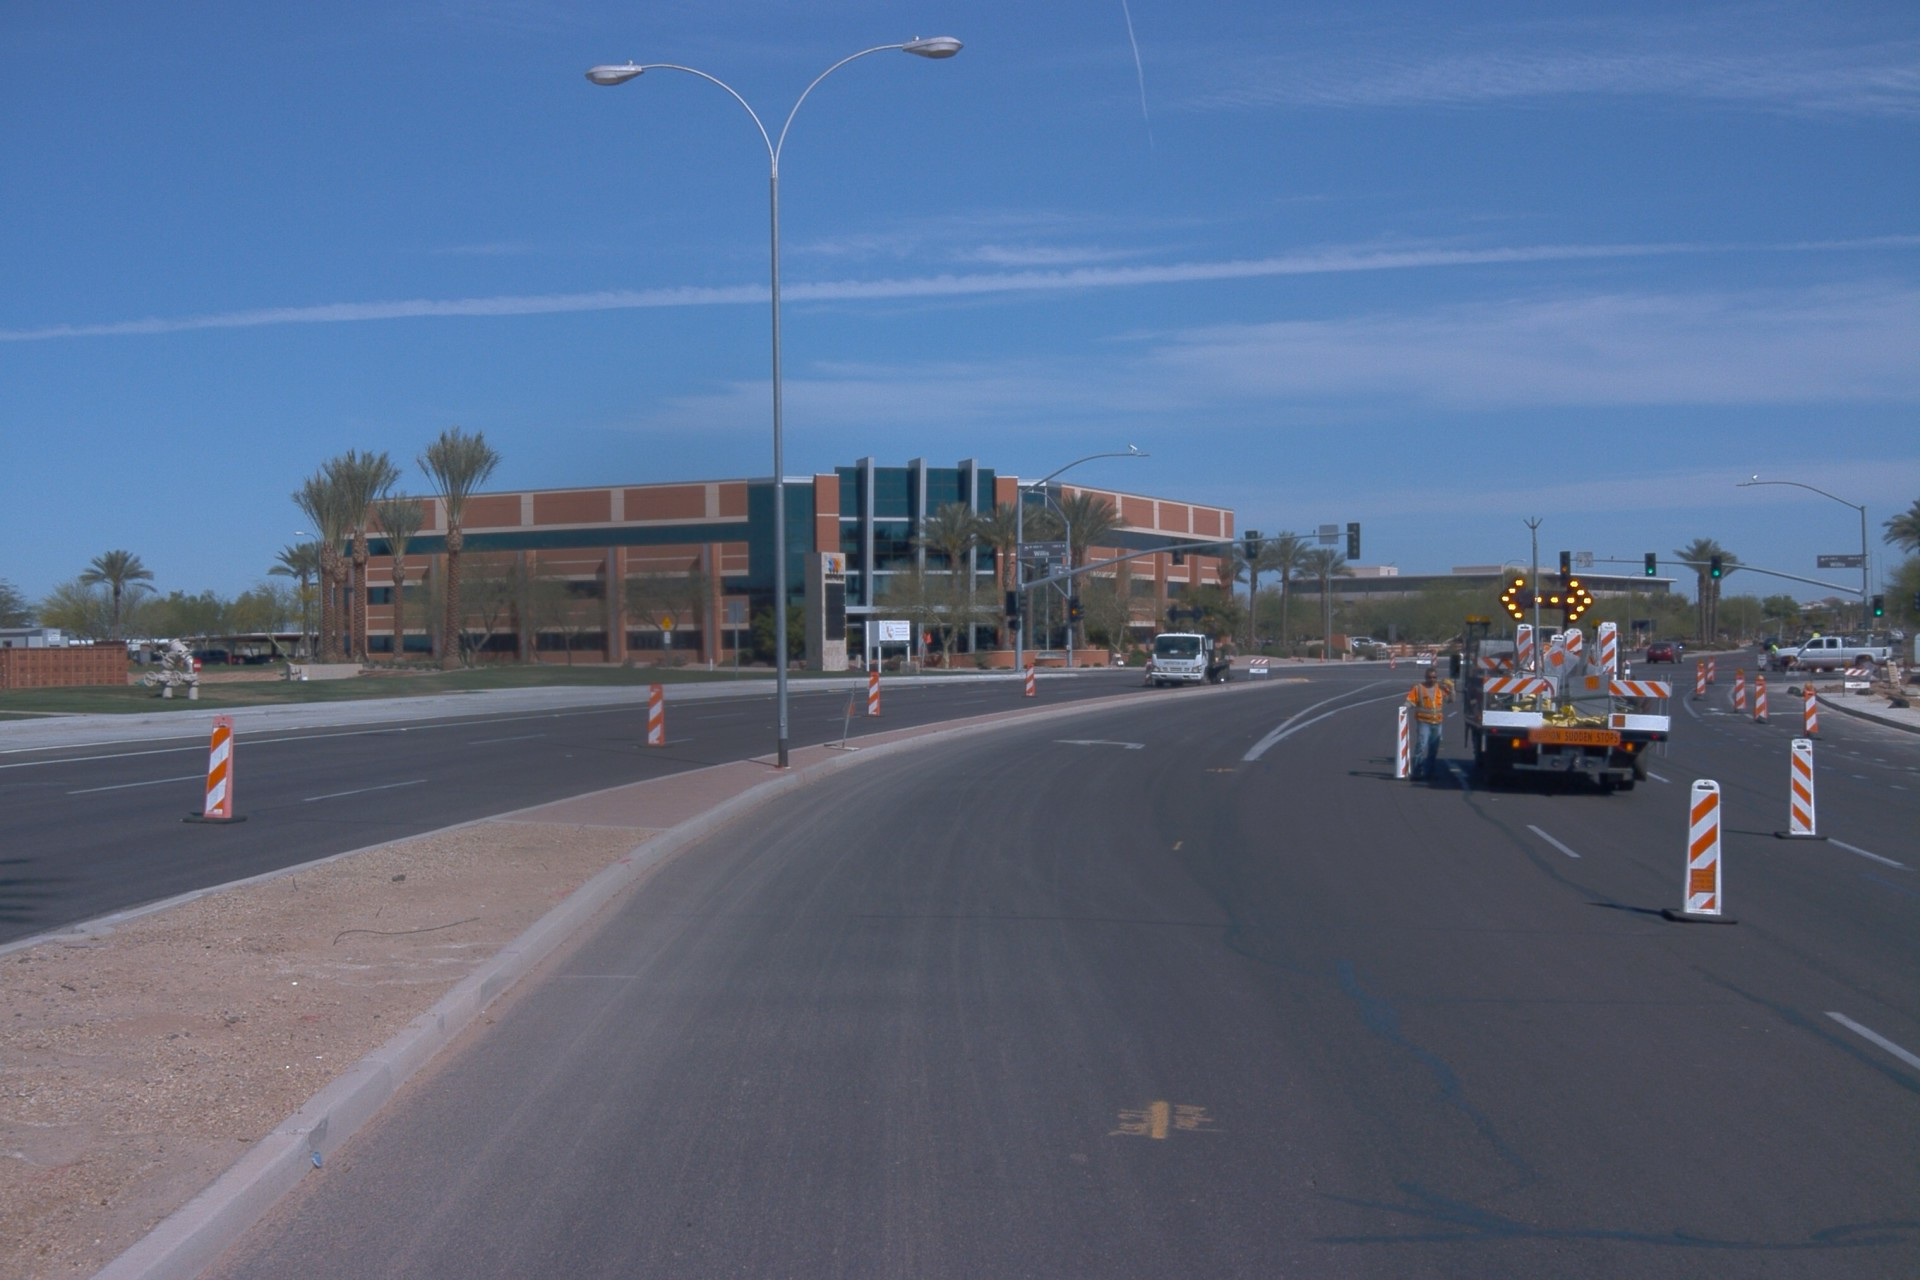TYPE_PEDESTRIAN: (1401, 670, 1459, 783)
TYPE_VEHICLE: (1449, 568, 1677, 797), (1143, 629, 1238, 695), (1774, 631, 1900, 680), (1645, 640, 1685, 669), (1534, 624, 1566, 644), (1351, 634, 1390, 650)
